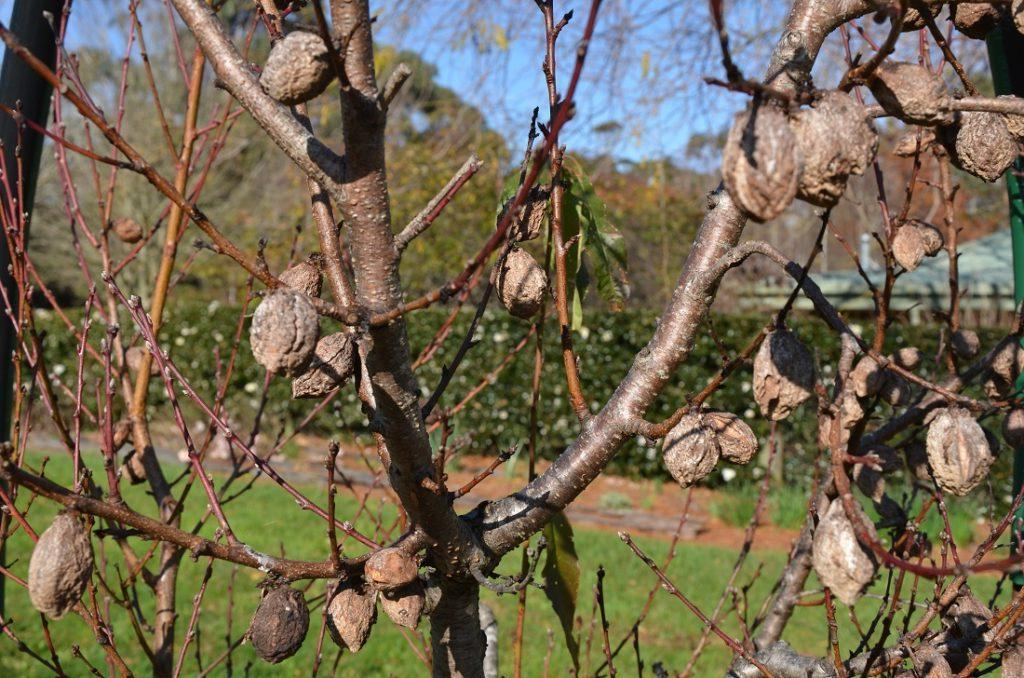mummified_fruits: (723, 99, 801, 220), (813, 498, 877, 605), (28, 514, 92, 617), (250, 288, 318, 375), (927, 408, 992, 493), (261, 31, 332, 105), (249, 585, 309, 663), (664, 415, 718, 486), (498, 247, 547, 318), (853, 502, 875, 537)
